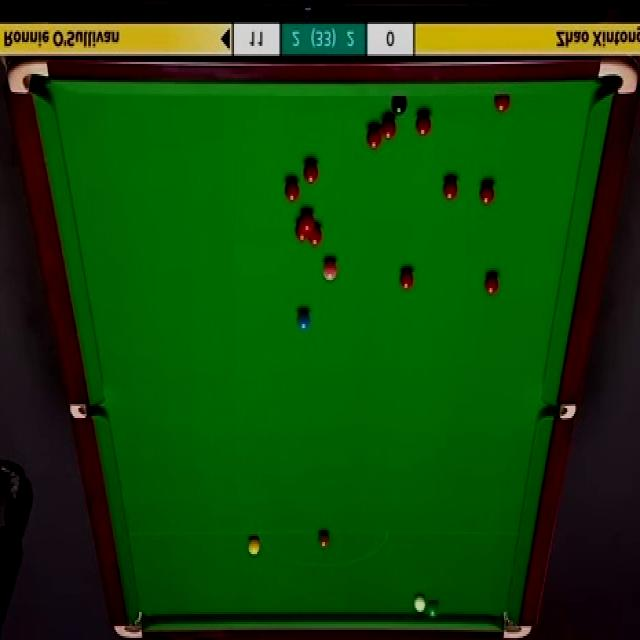black-ball: (392, 95, 408, 117)
blue-ball: (296, 311, 312, 332)
brown-ball: (318, 532, 330, 552)
green-ball: (426, 600, 439, 618)
pink-ball: (322, 256, 339, 281)
red-ball: (442, 176, 460, 202), (381, 114, 397, 143), (398, 267, 415, 294), (415, 110, 432, 136), (281, 179, 301, 201), (366, 124, 382, 150), (479, 182, 496, 206), (298, 157, 316, 178), (484, 271, 498, 296), (294, 218, 308, 242), (309, 222, 322, 246), (493, 97, 511, 114), (300, 210, 316, 229)
white-ball: (414, 594, 427, 616)
yellow-ball: (247, 538, 259, 554)
